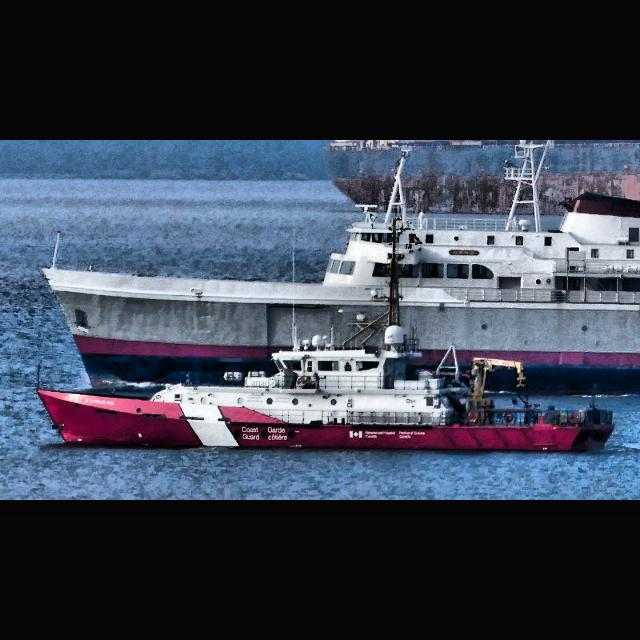patrol_vessel: (32, 320, 618, 456)
